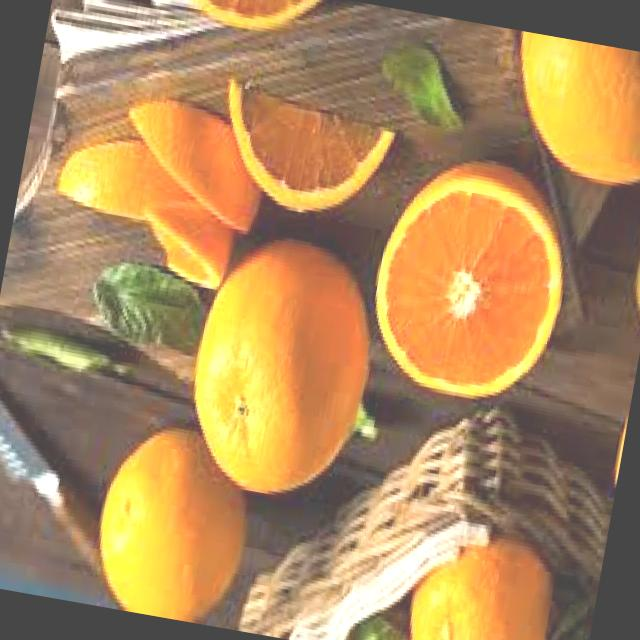Orange: (172, 229, 388, 511), (356, 147, 582, 414), (84, 417, 262, 629), (208, 78, 398, 229), (496, 33, 640, 197), (398, 521, 560, 640), (166, 0, 328, 44), (620, 185, 640, 353)
